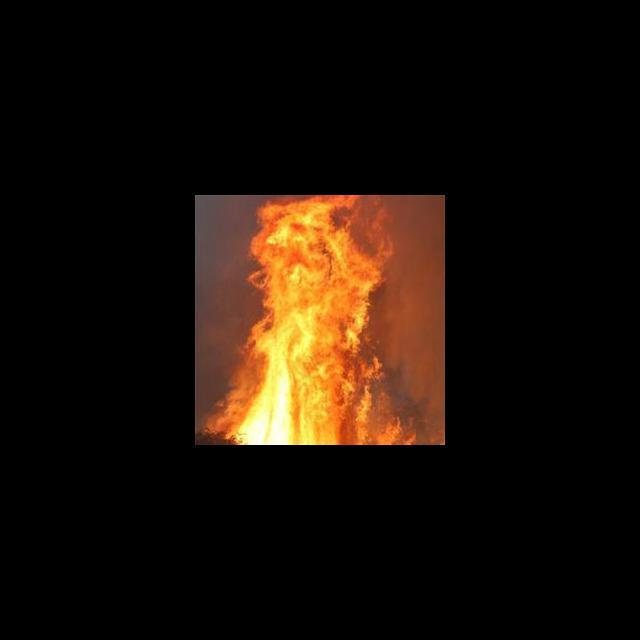Fire: (213, 195, 421, 444)
